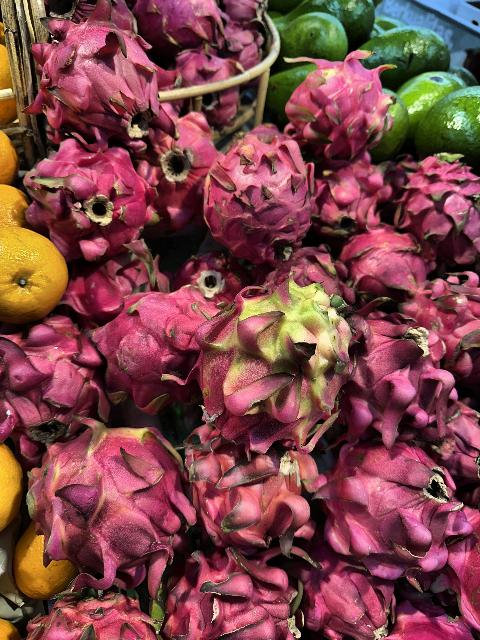buah-naga-belum-matang: (16, 417, 186, 588), (190, 292, 354, 446)
buah-naga-matang: (178, 423, 326, 562), (12, 138, 168, 264), (326, 441, 472, 563), (27, 17, 175, 134), (344, 300, 448, 450), (94, 288, 204, 414), (0, 310, 102, 442), (160, 548, 302, 640), (196, 142, 310, 252), (280, 52, 392, 156), (300, 542, 392, 640), (139, 113, 224, 211), (21, 584, 161, 640), (76, 246, 198, 310), (402, 150, 480, 248), (339, 226, 435, 302), (304, 156, 388, 230), (132, 0, 230, 48)
